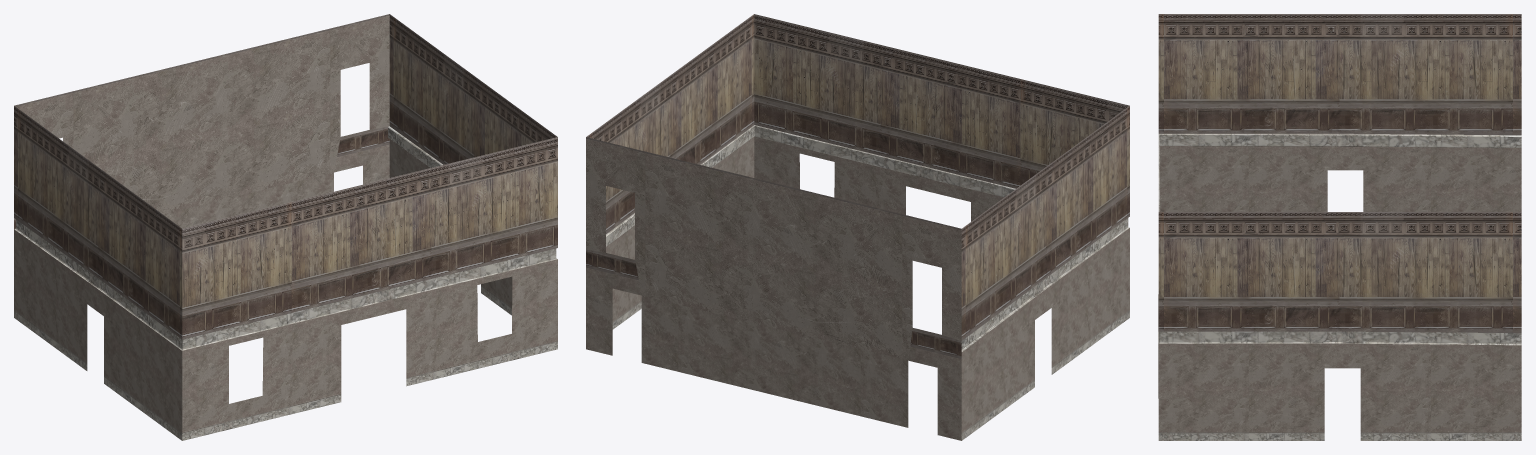
Rendered from hall_wall.fbx.
3 renders of one model, left to right at view 1: azimuth 30°, elevation 25°; view 2: azimuth 150°, elevation 25°; view 3: azimuth 270°, elevation 25°, orthographic. The views are drawn at different scales.
Visible parts, largest first — view 1: pCube8; view 2: pCube8; view 3: pCube8.
Boxes of the visible parts, bbox=[...] form: pCube8: bbox=[14, 14, 557, 440]; pCube8: bbox=[586, 14, 1129, 440]; pCube8: bbox=[1158, 14, 1521, 440].
Bounding box in the file's own units: 1296 × 700 × 1005.
